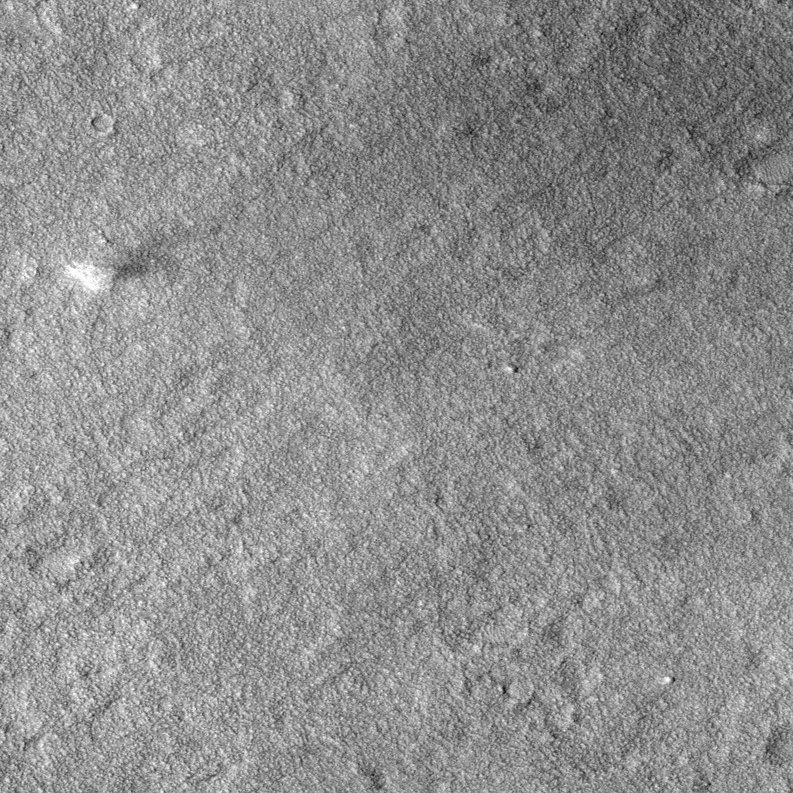dust_devil: (61, 239, 183, 294)
